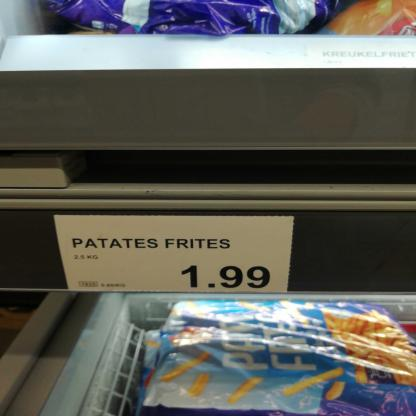prtg: (54, 215, 297, 292)
